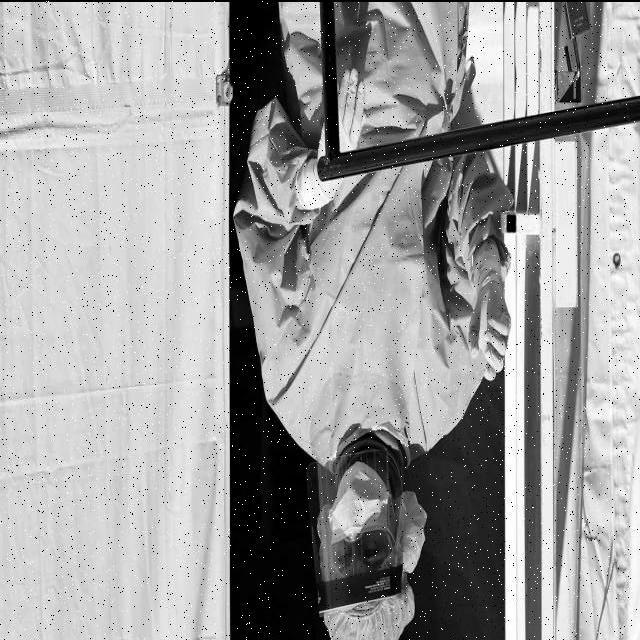apron: (310, 66, 372, 220), (455, 258, 524, 380)
gloves: (324, 583, 426, 640)
mask: (329, 459, 391, 530)
